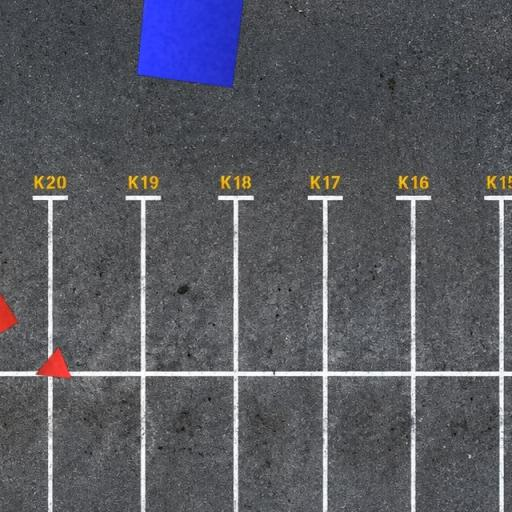BLUE_SQUARE: (136, 0, 246, 89)
